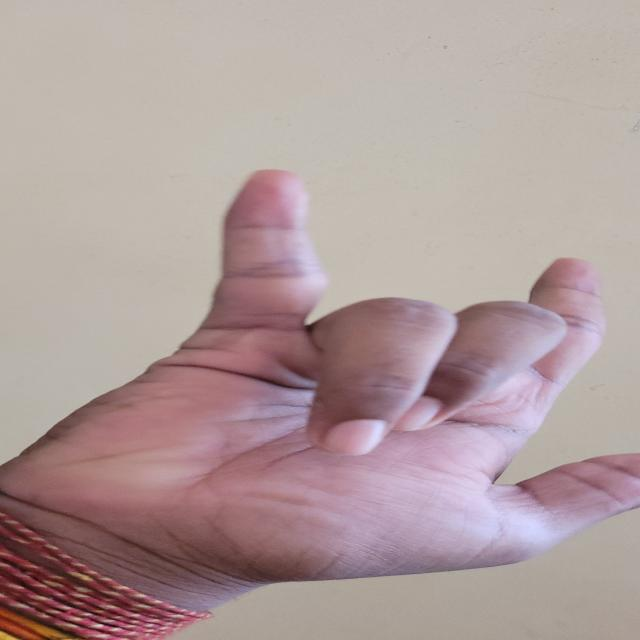i like you: (2, 166, 640, 615)
